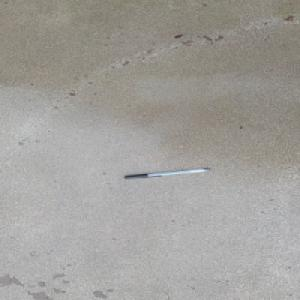Pen: (122, 167, 210, 180)
